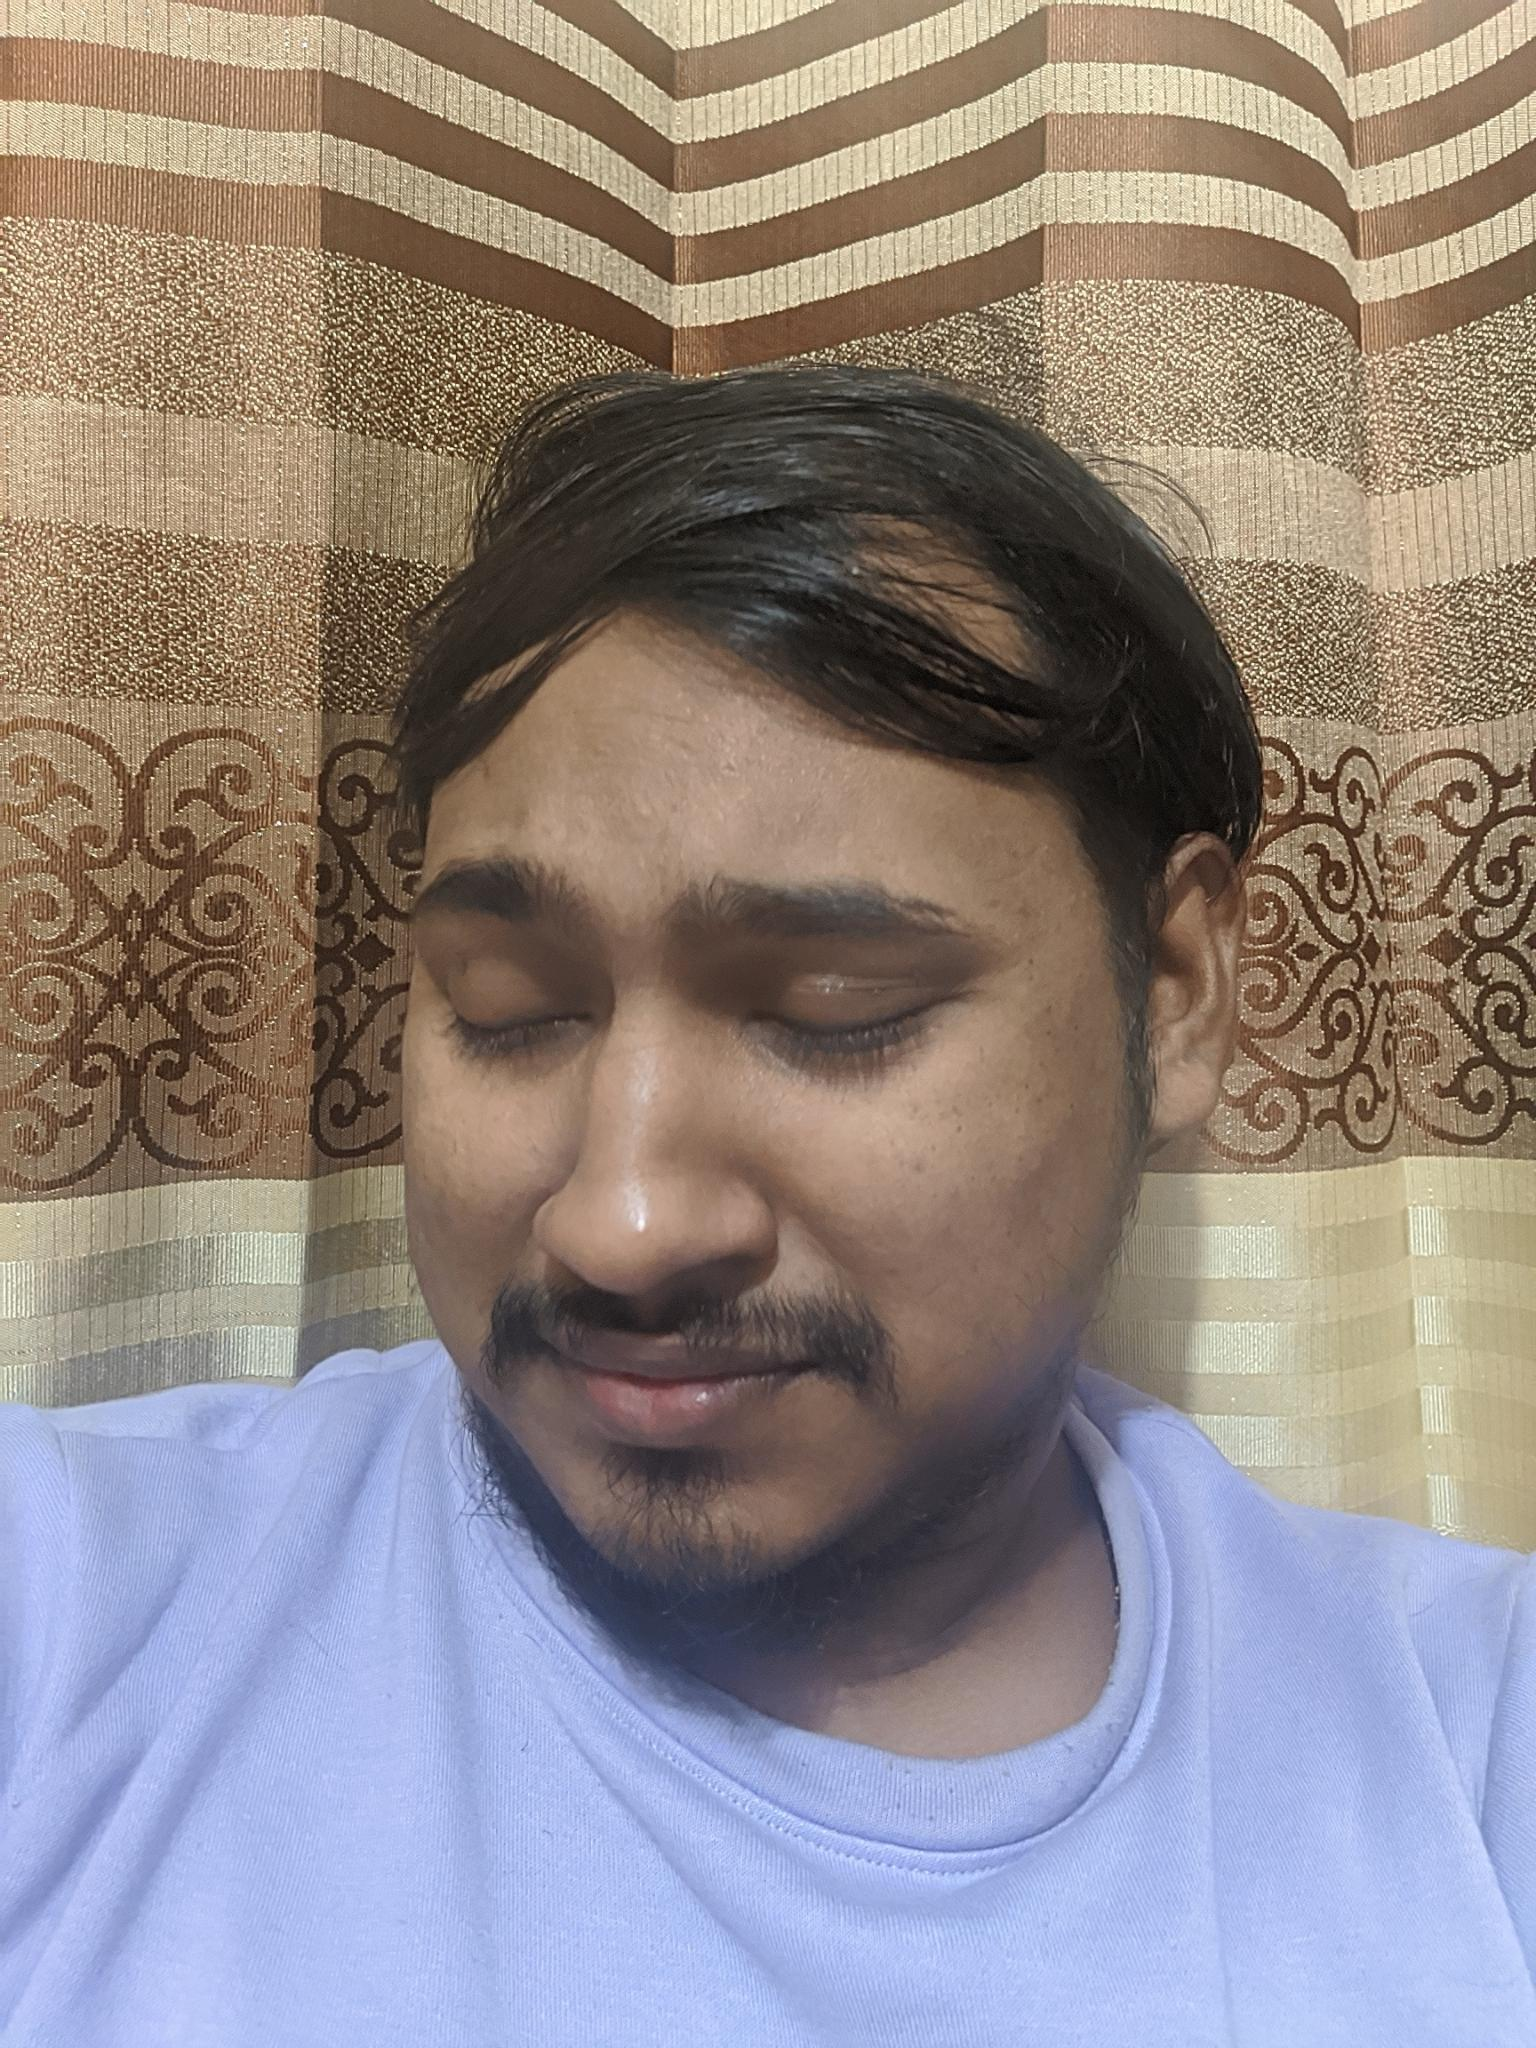Sad: (369, 756, 1079, 1650)
